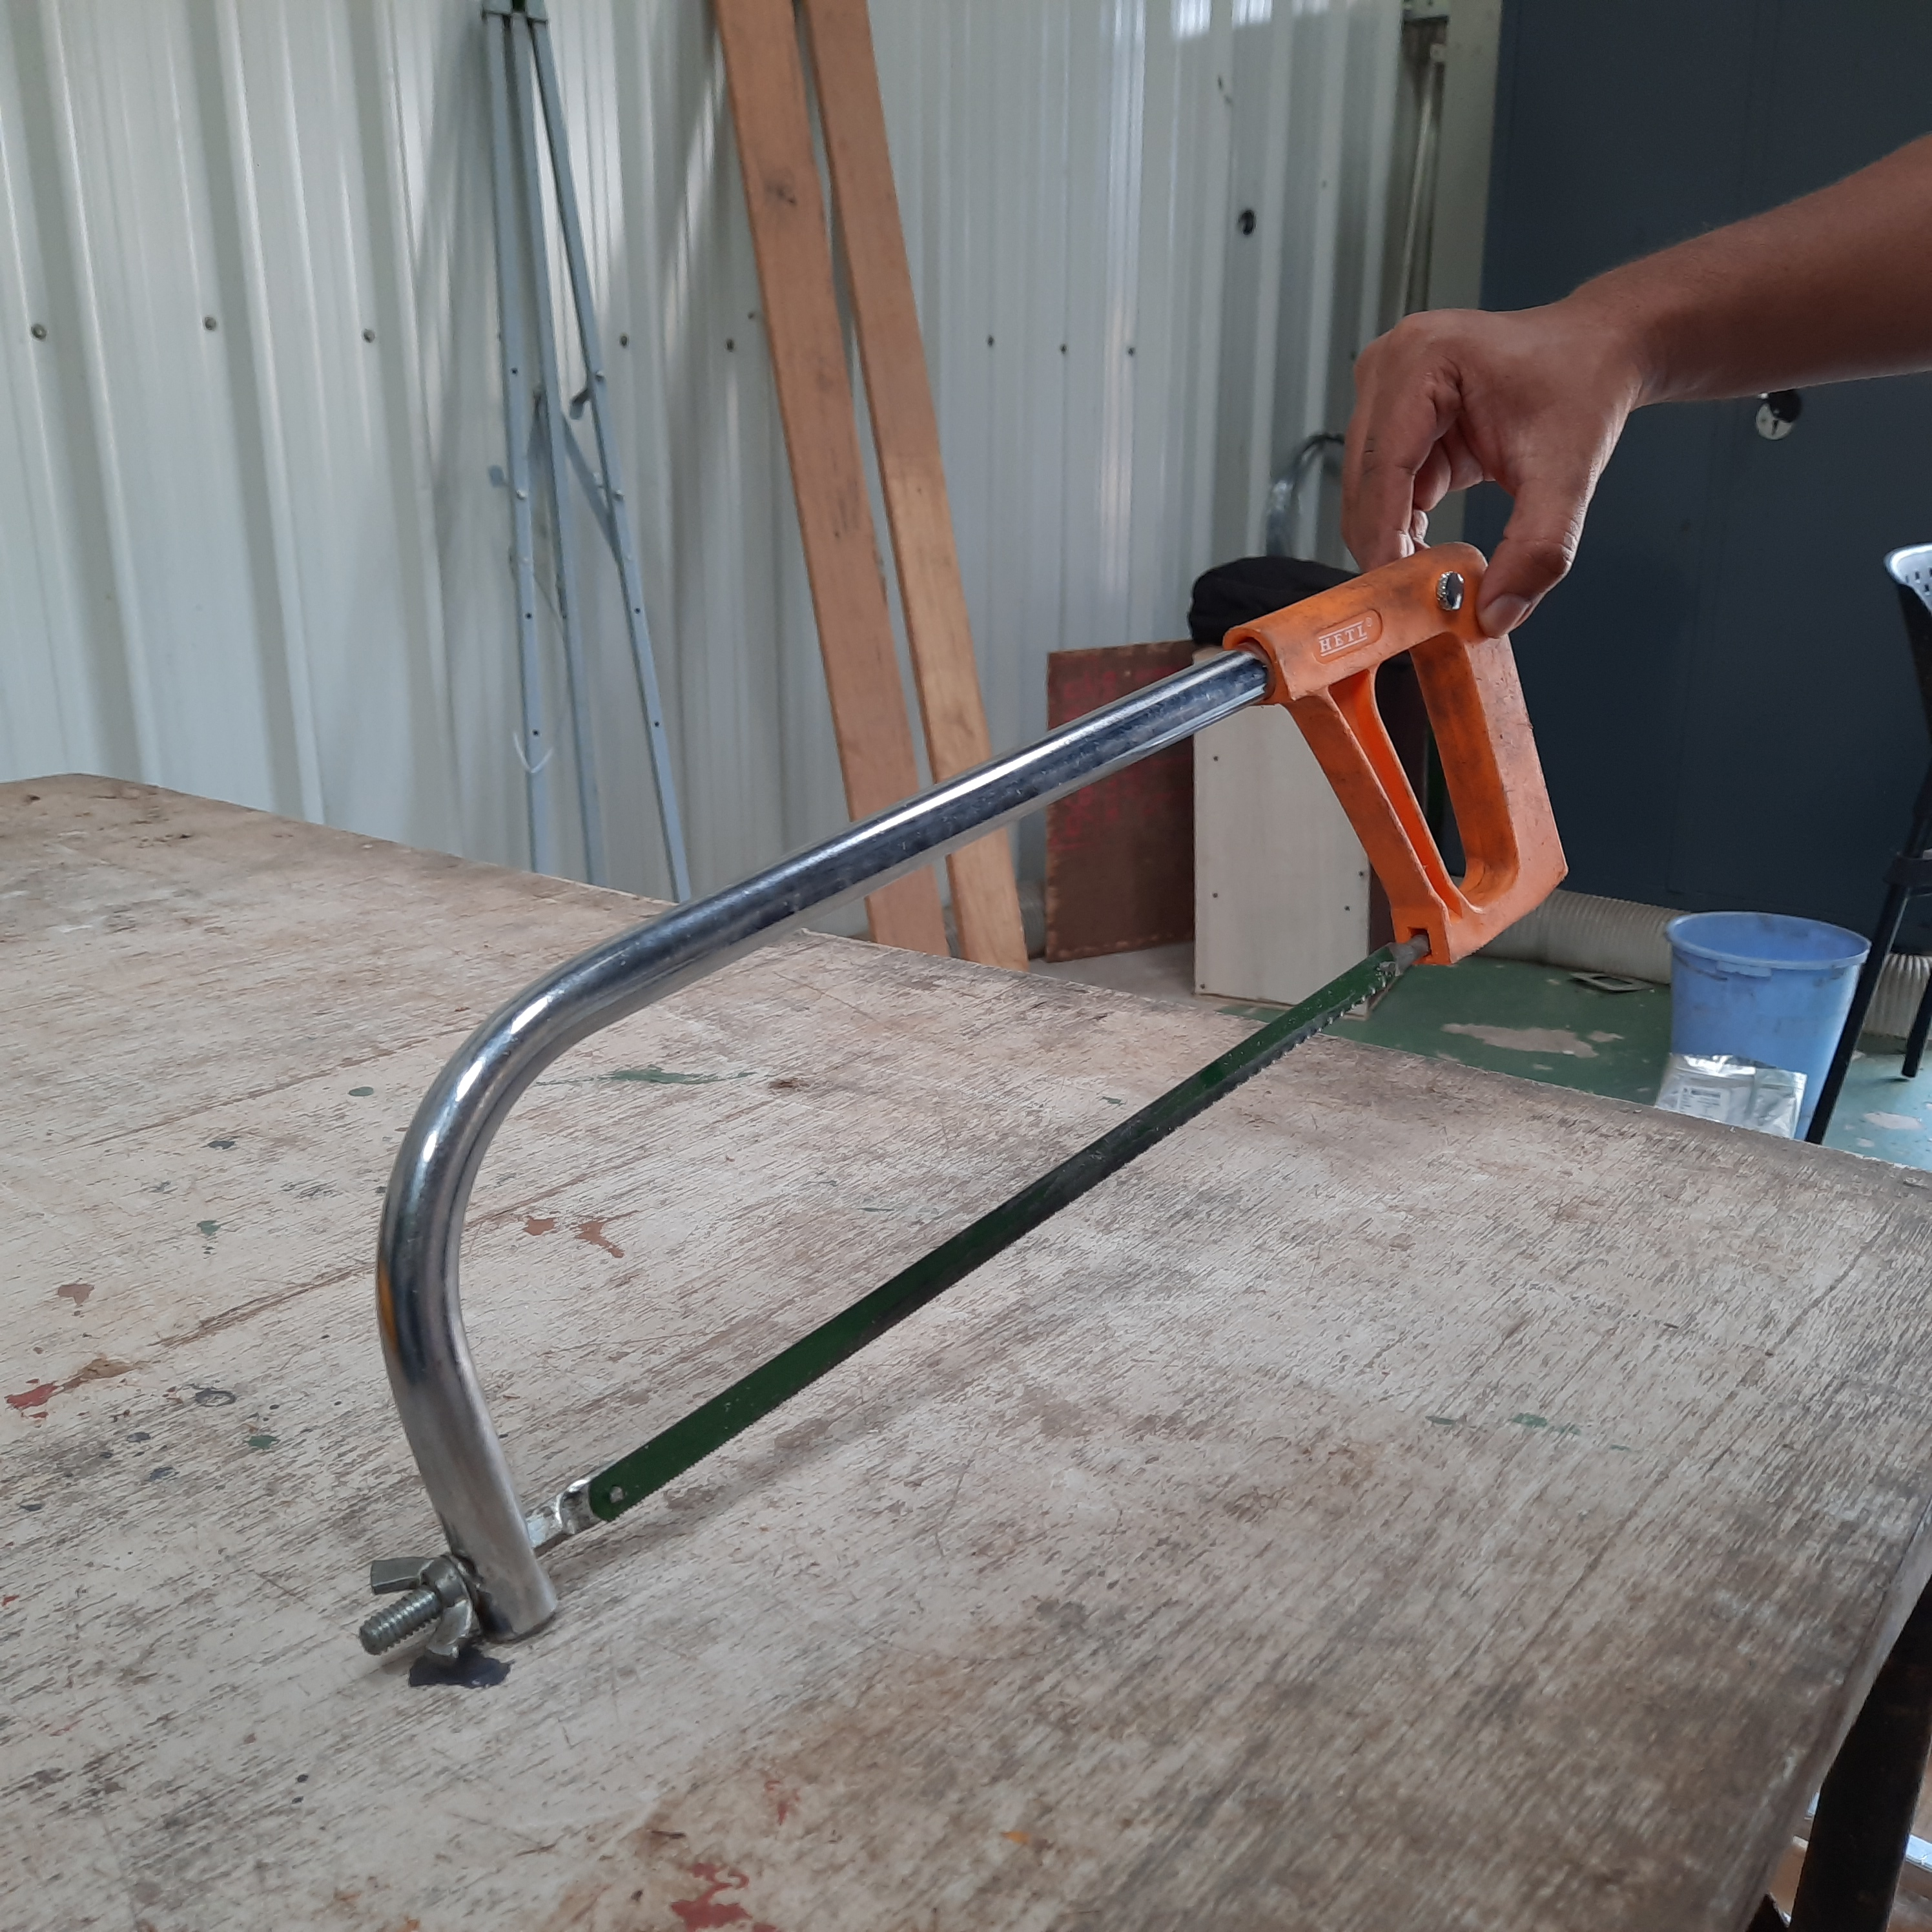Hexaframe: (317, 522, 1599, 1787)
